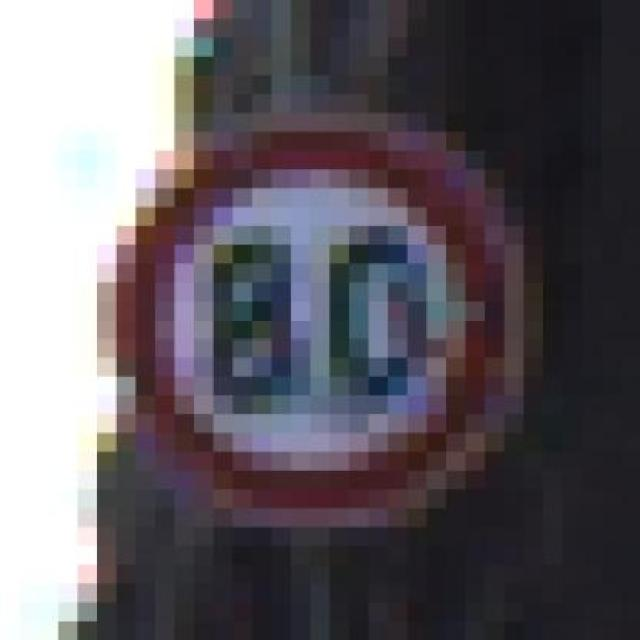forb_speed_over_80: (122, 121, 516, 521)
